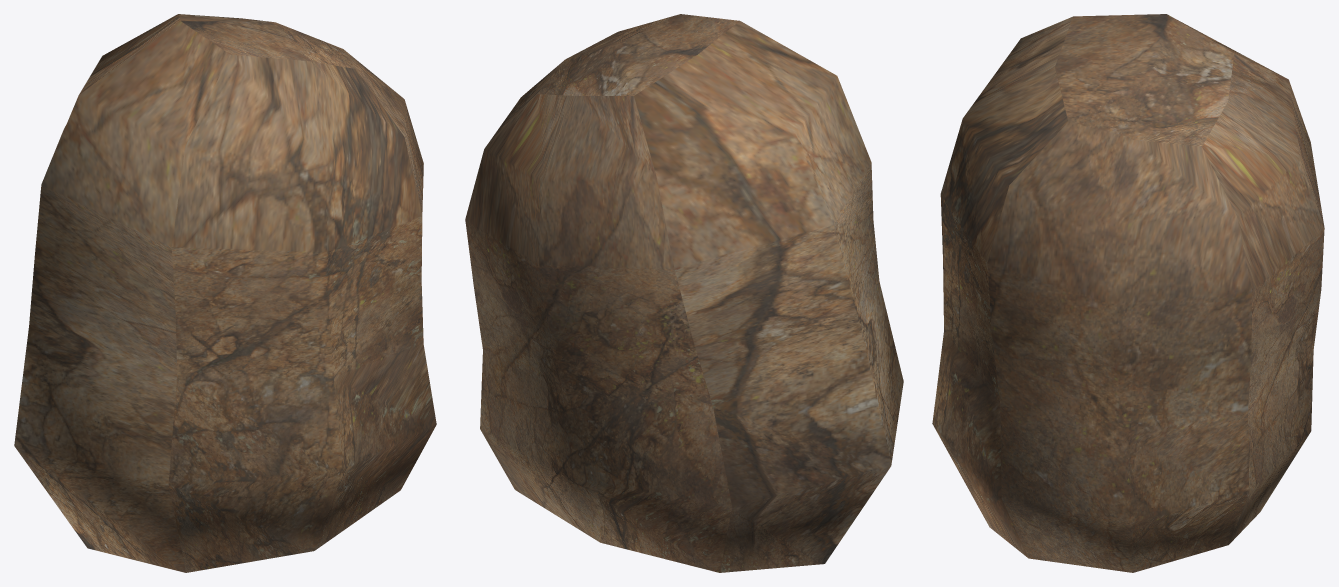
File: Rock_3.fbx
3 renders of one model, left to right at view 1: azimuth 30°, elevation 25°; view 2: azimuth 150°, elevation 25°; view 3: azimuth 270°, elevation 25°, orthographic. The views are drawn at different scales.
Visible parts, largest first — view 1: rock_3; view 2: rock_3; view 3: rock_3.
Part boxes in pixels (left/top/right/bottom): rock_3: left=14, top=14, right=436, bottom=572; rock_3: left=465, top=14, right=903, bottom=572; rock_3: left=932, top=14, right=1324, bottom=572.
Size of the model in its own units: 24.84 by 29.53 by 20.51.
